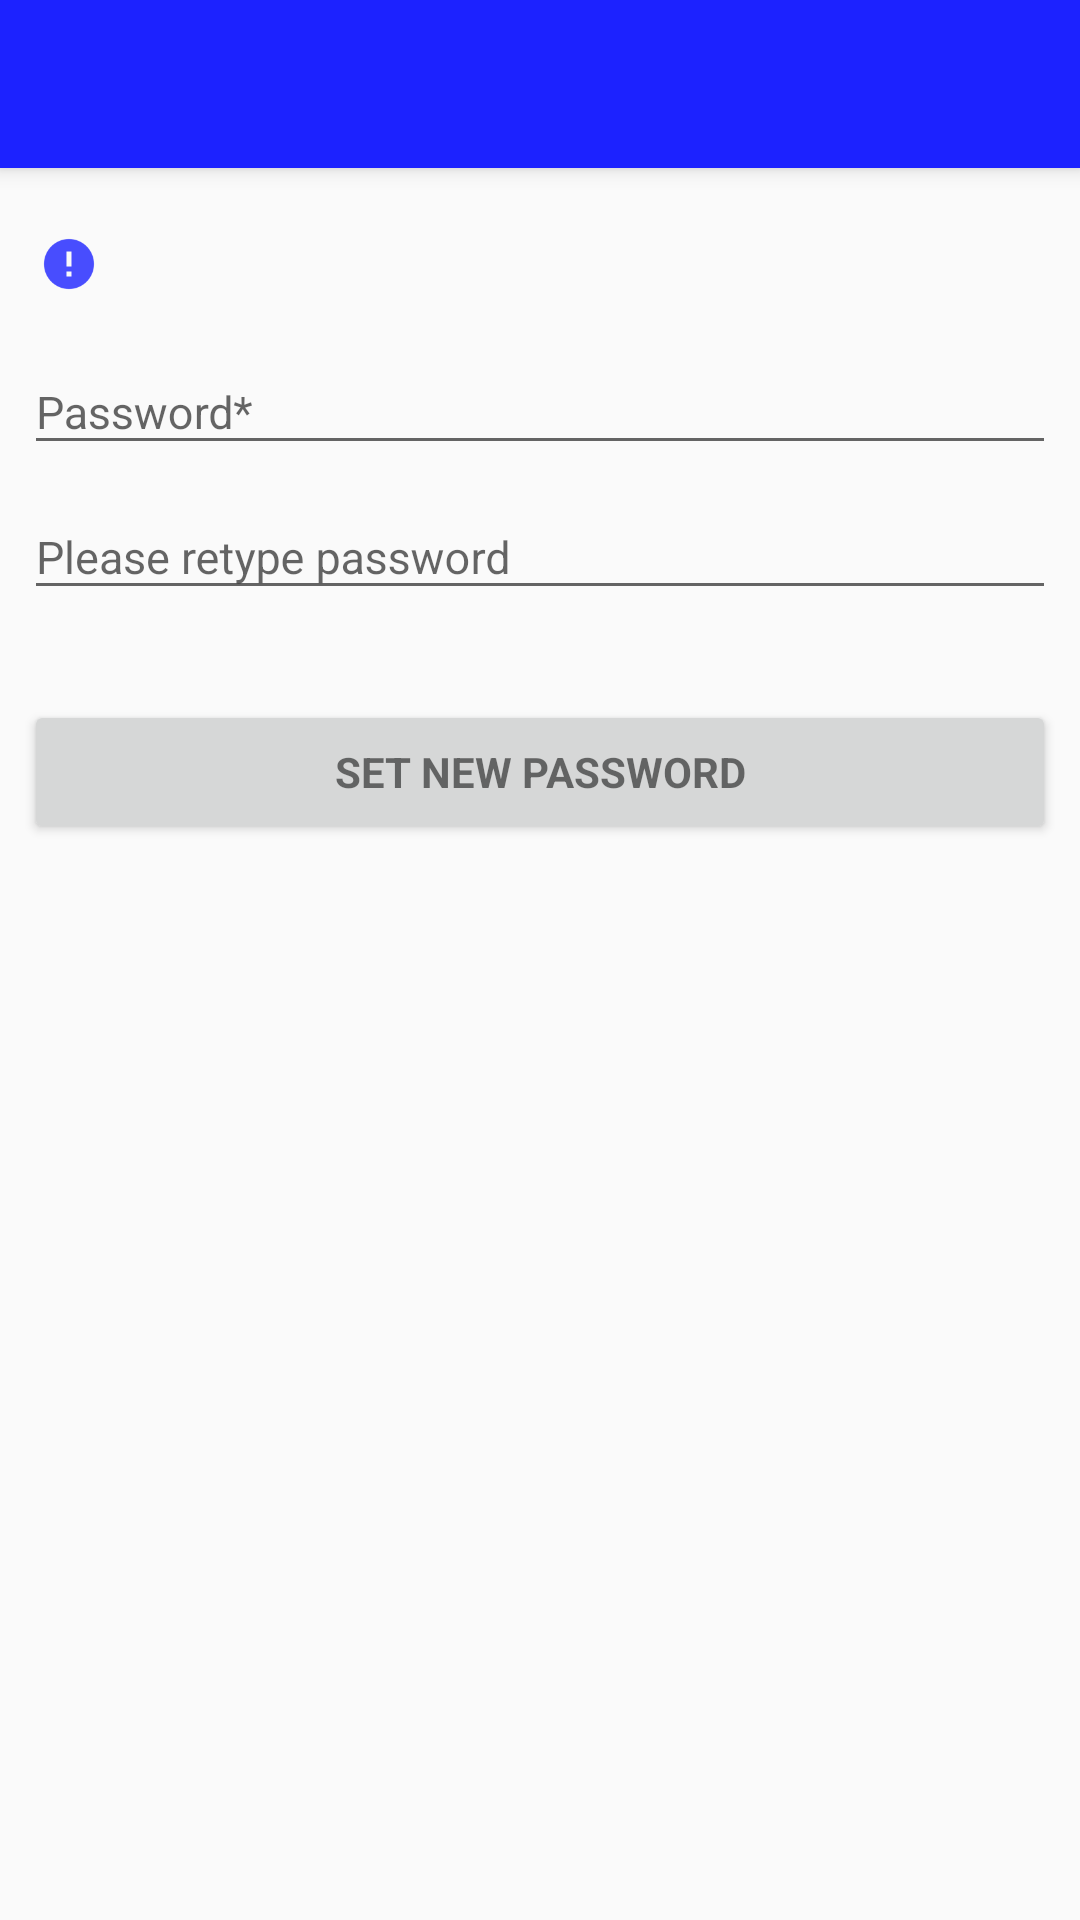

Where to tap for icons on this 1080*1920 app screen, as point (x, y):
hint: point (69, 264)
